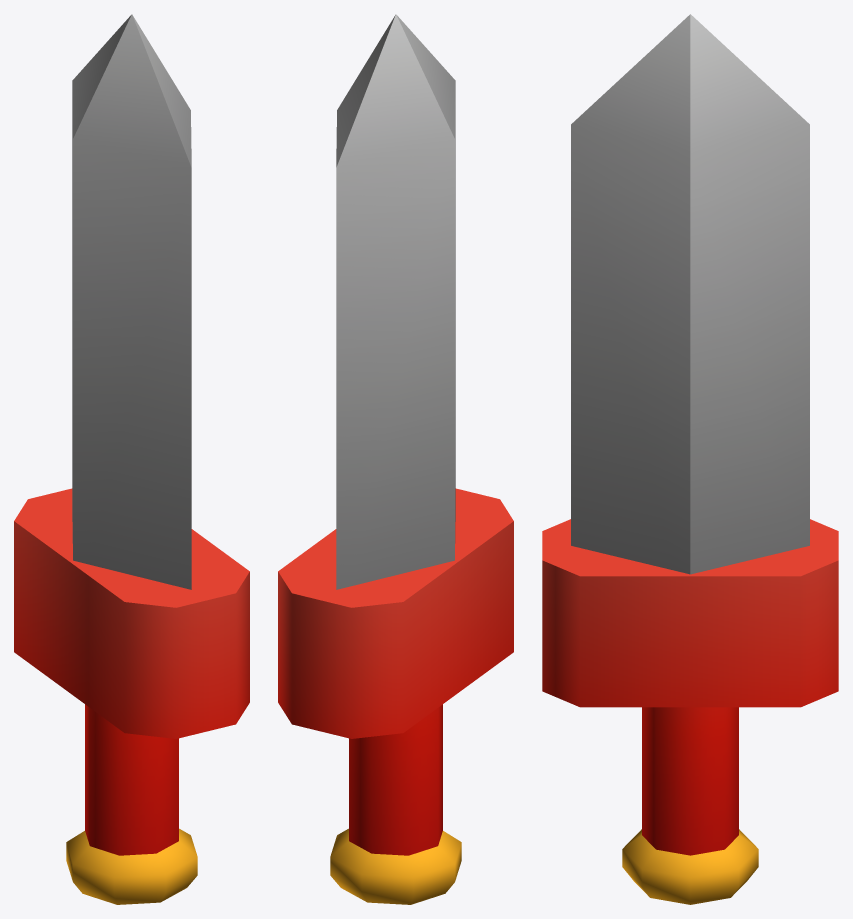
File: scene_94MbqPoMiW.glb
The picture shows the model from 3 angles, left to right: view 1: azimuth 30°, elevation 25°; view 2: azimuth 150°, elevation 25°; view 3: azimuth 270°, elevation 25°; orthographic projection.
Visible parts, largest first — view 1: Collectable_Sword_01; view 2: Collectable_Sword_01; view 3: Collectable_Sword_01.
Boxes of the visible parts, x1,y1,x2,y2 form: Collectable_Sword_01: [14, 14, 249, 904]; Collectable_Sword_01: [278, 14, 513, 904]; Collectable_Sword_01: [542, 14, 838, 904].
Bounding box in the file's own units: 0.2006 × 1.33 × 0.4113.
1 material, 1 textured.
